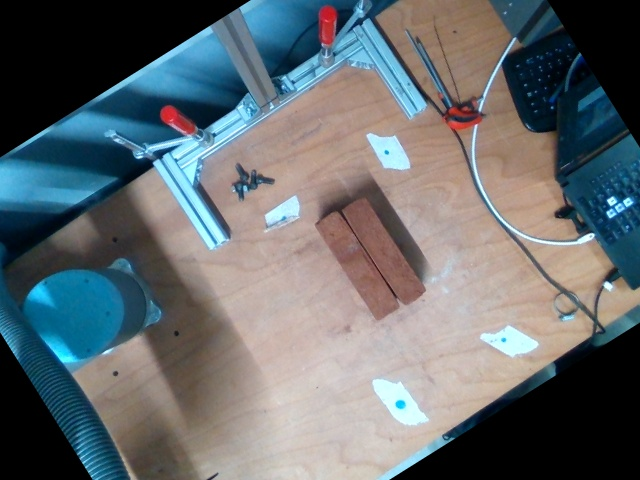brick-side: (315, 210, 397, 319), (343, 197, 425, 306)
